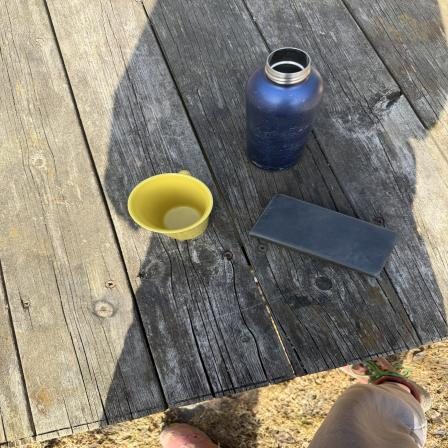blue_bottle: (245, 45, 313, 170)
phone: (246, 193, 404, 279)
yellow_cup: (126, 170, 216, 242)
